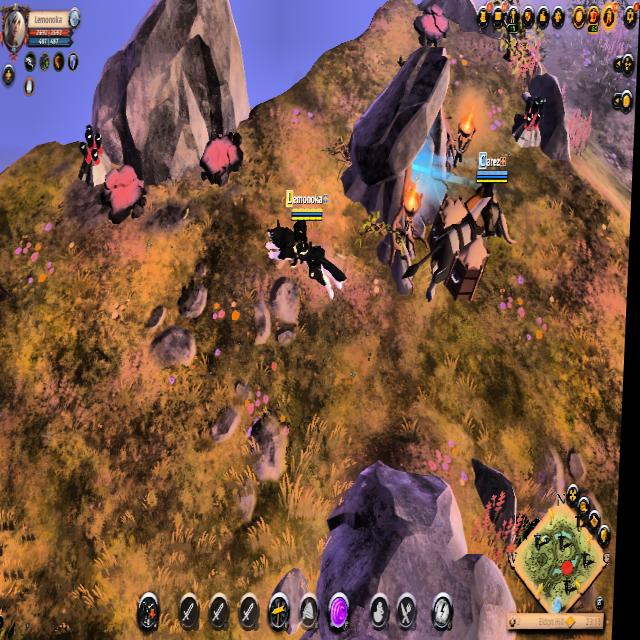ore tier 5: (514, 89, 548, 153), (78, 122, 112, 184)
